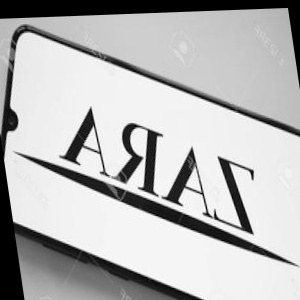mango: (10, 91, 69, 300)
zara: (251, 52, 277, 138)
